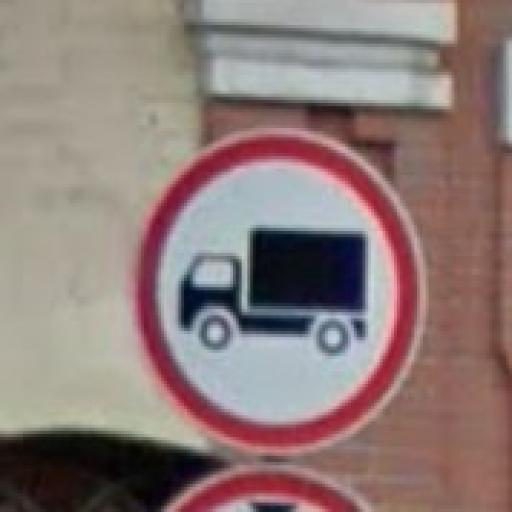traffic_sign: (133, 129, 430, 457)
